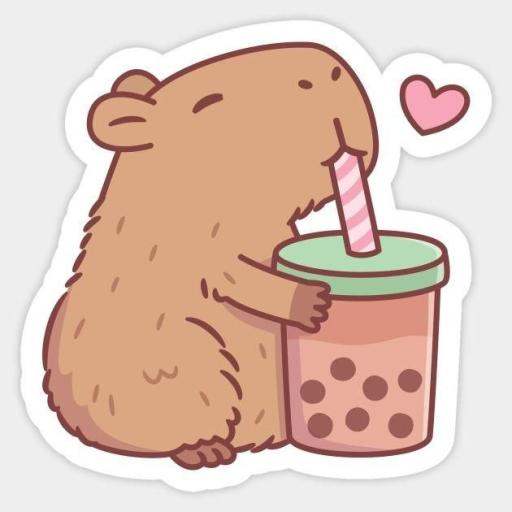capibara: (43, 24, 386, 486)
